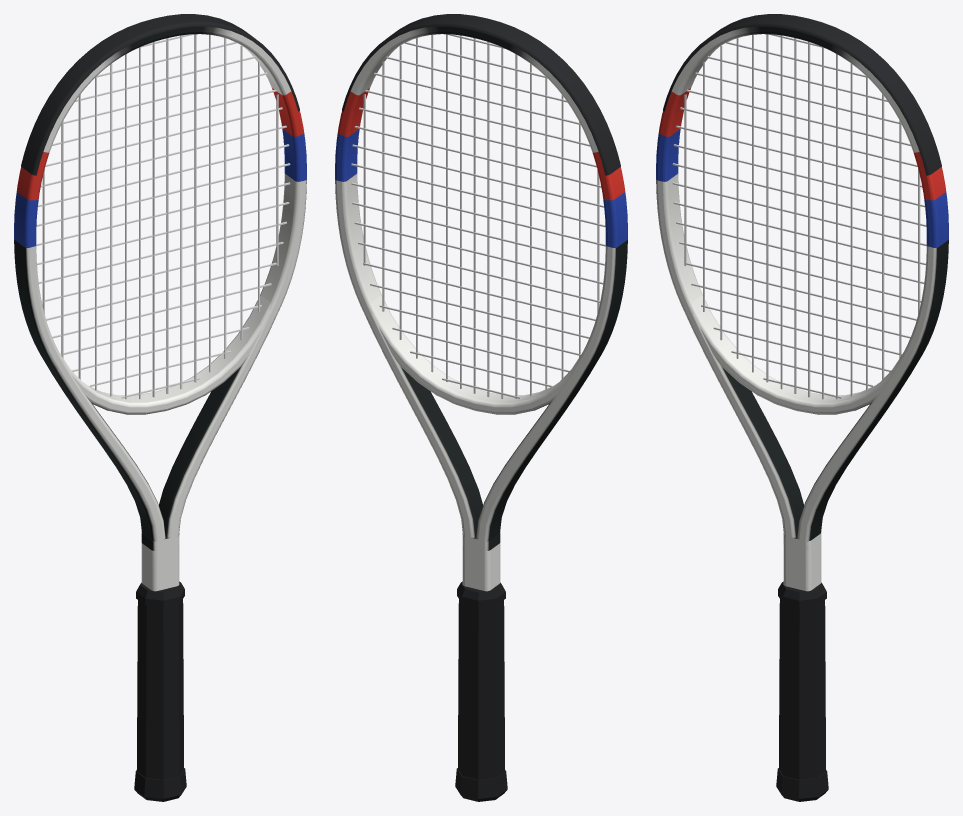
Rendered from tecnifibre-tf40-v1.glb.
The picture shows the model from 3 angles, left to right: view 1: azimuth 30°, elevation 25°; view 2: azimuth 150°, elevation 25°; view 3: azimuth 330°, elevation 25°; orthographic projection.
Parts seen in each view (by area): view 1: frame, strings_mains, strings_crosses, grip, bumper, butt_cap, collar; view 2: frame, strings_mains, strings_crosses, grip, bumper, butt_cap, collar; view 3: frame, strings_mains, strings_crosses, grip, bumper, butt_cap, collar.
Boxes of the visible parts, left/top/right/bottom form: frame: left=14, top=26, right=306, bottom=591; strings_mains: left=42, top=34, right=278, bottom=399; strings_crosses: left=36, top=34, right=290, bottom=398; grip: left=137, top=599, right=183, bottom=779; bumper: left=21, top=14, right=299, bottom=175; butt_cap: left=134, top=768, right=186, bottom=801; collar: left=136, top=581, right=184, bottom=607; frame: left=335, top=26, right=627, bottom=591; strings_mains: left=363, top=34, right=599, bottom=398; strings_crosses: left=351, top=34, right=605, bottom=398; grip: left=458, top=599, right=504, bottom=779; bumper: left=342, top=14, right=620, bottom=175; butt_cap: left=455, top=768, right=507, bottom=801; collar: left=457, top=581, right=505, bottom=607; frame: left=656, top=26, right=948, bottom=591; strings_mains: left=684, top=34, right=920, bottom=399; strings_crosses: left=672, top=34, right=926, bottom=398; grip: left=779, top=599, right=825, bottom=779; bumper: left=663, top=14, right=941, bottom=175; butt_cap: left=776, top=768, right=828, bottom=801; collar: left=778, top=581, right=826, bottom=607.
Bounding box in the file's own units: 0.2634 × 0.6861 × 0.0396.
